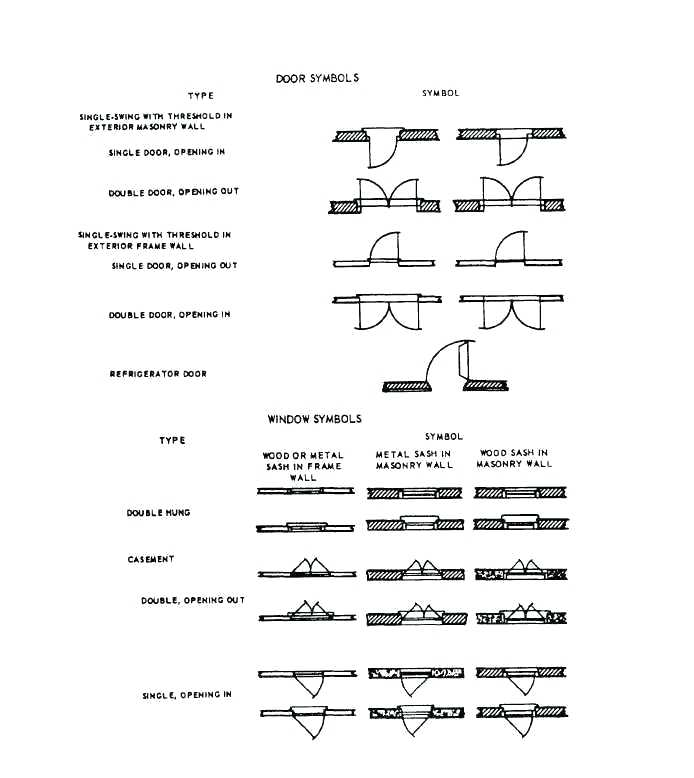door: (325, 112, 405, 177), (478, 287, 553, 343), (351, 287, 424, 340)
